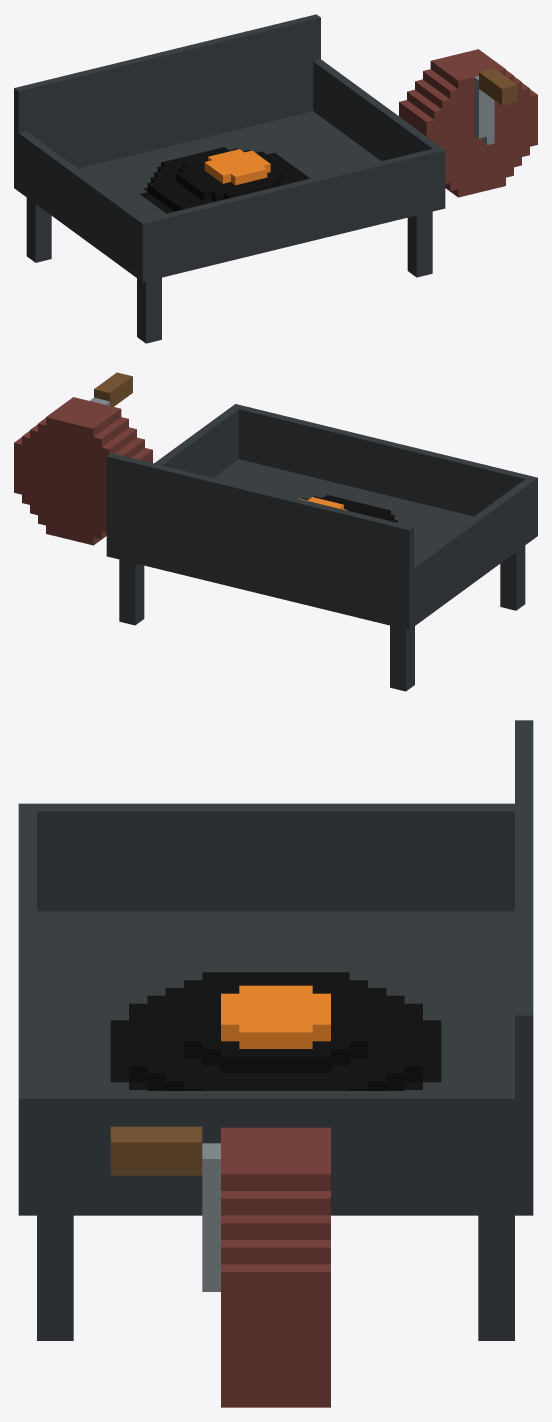
File: char_forge.glb
3 renders of one model, top to bottom at view 1: azimuth 30°, elevation 25°; view 2: azimuth 150°, elevation 25°; view 3: azimuth 270°, elevation 25°, orthographic. The views are drawn at different scales.
Parts seen in each view (by area): view 1: char_forge:compound; view 2: char_forge:compound; view 3: char_forge:compound.
Part boxes in pixels (bbox=[...]): char_forge:compound: bbox=[14, 14, 537, 343]; char_forge:compound: bbox=[14, 372, 537, 691]; char_forge:compound: bbox=[18, 720, 533, 1407].
Size of the model in its own units: 0.56 by 0.2 by 0.28.
